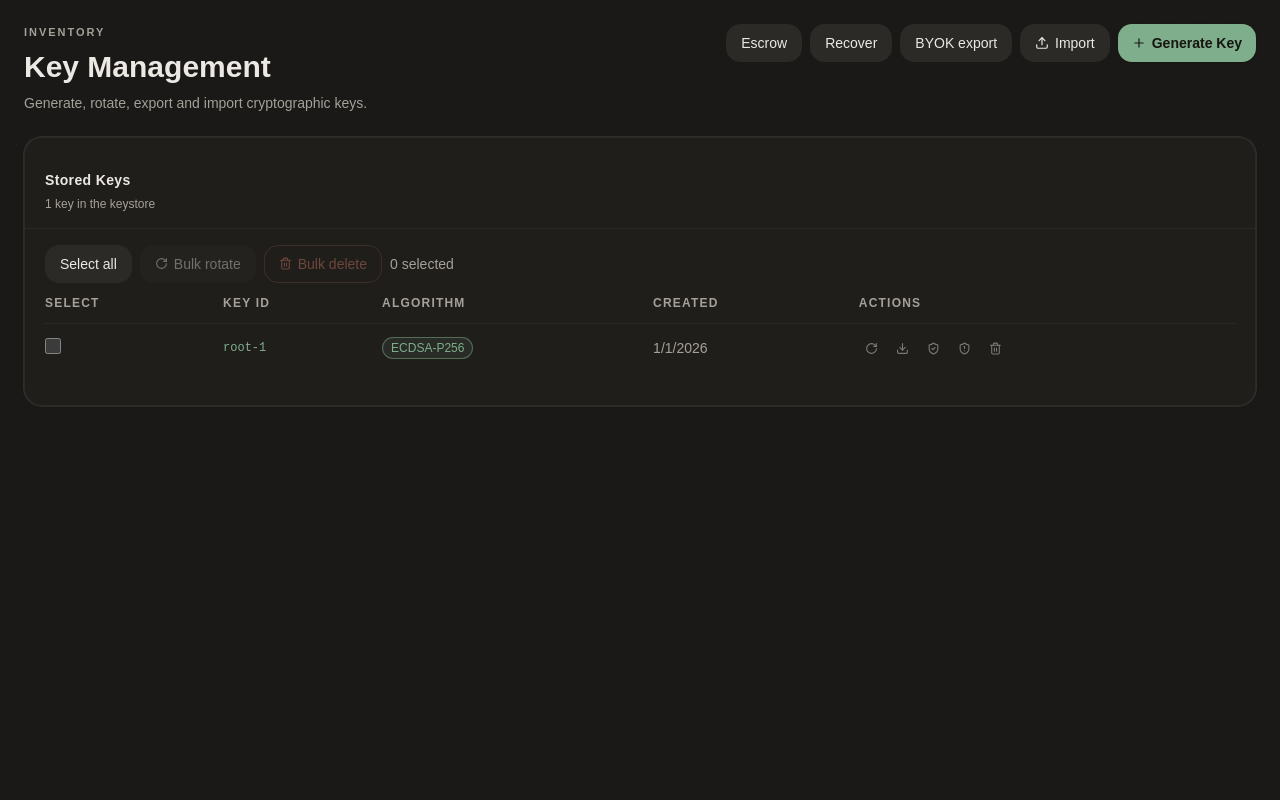
Keys escrow / recover / BYOK (W23-21) › starts escrow and shows 202 pending with the action id
Click the button "Escrow": (764,43) left=726, top=24, right=802, bottom=62
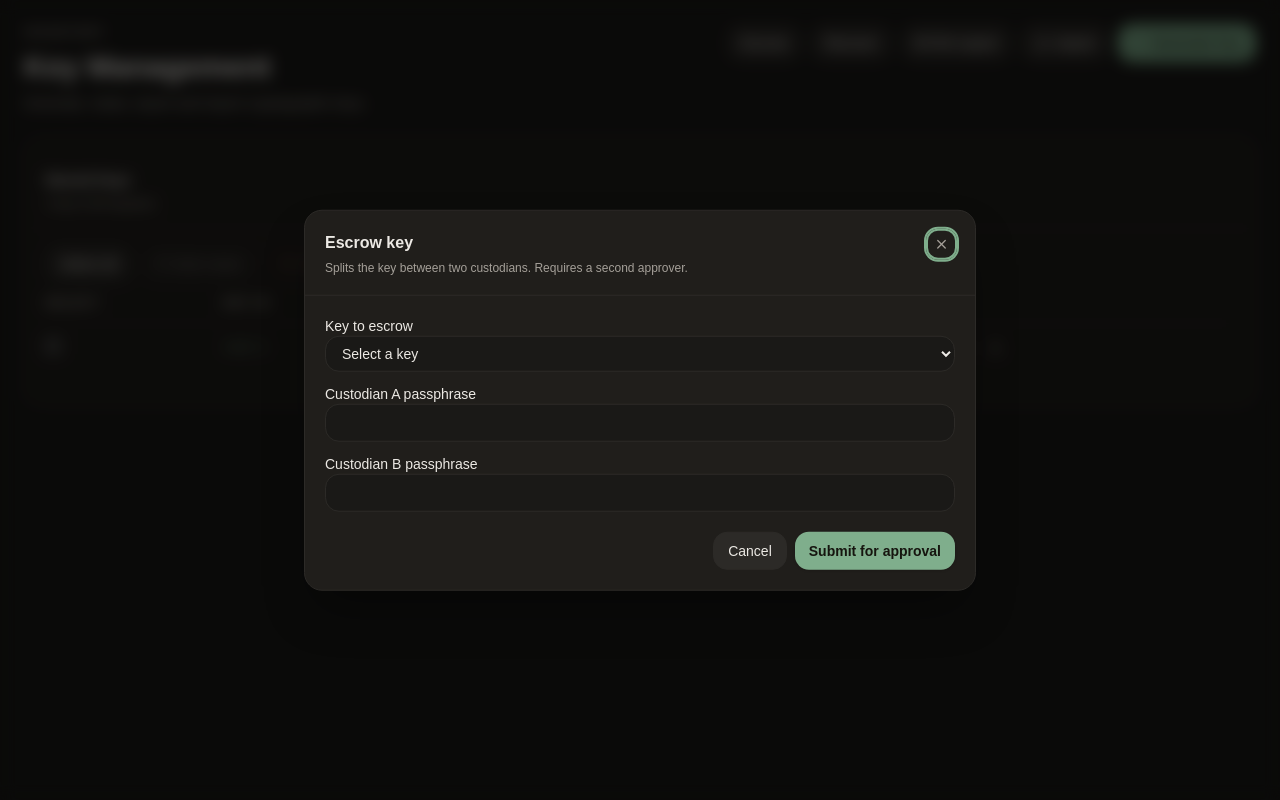
Select "root-1" in the dropdown labelled "Key to escrow": (640,353) left=325, top=335, right=955, bottom=371
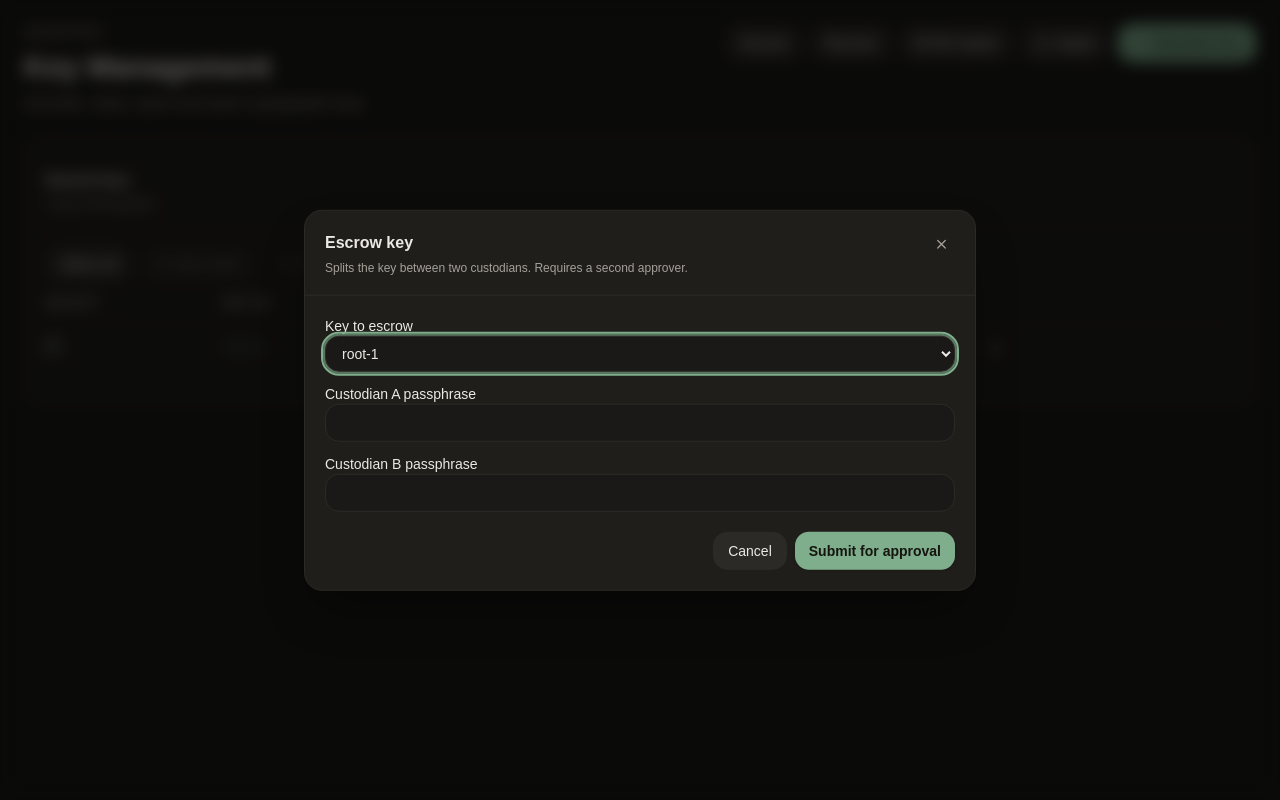
In the password field labelled "Custodian A passphrase": (640,422) left=325, top=403, right=955, bottom=441, type "alpha-secret"
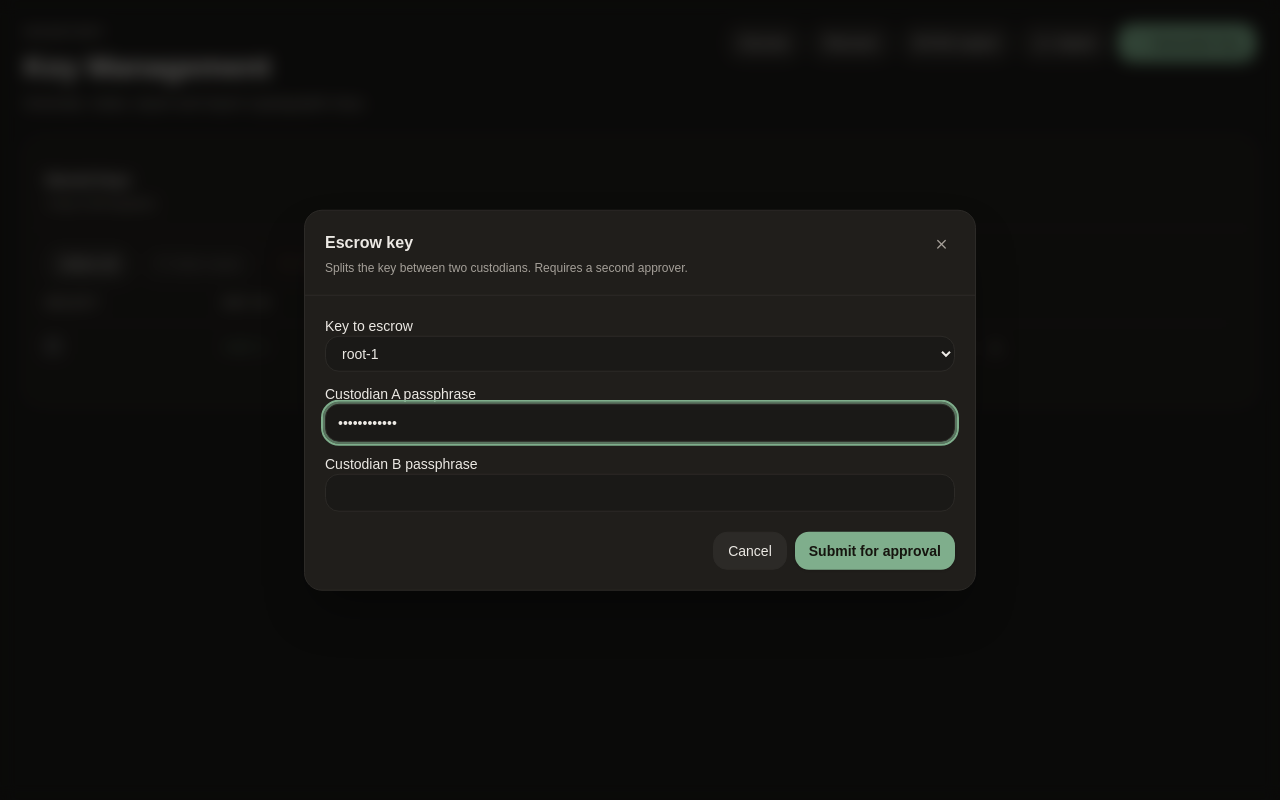
In the password field labelled "Custodian B passphrase": (640,492) left=325, top=473, right=955, bottom=511, type "bravo-secret"
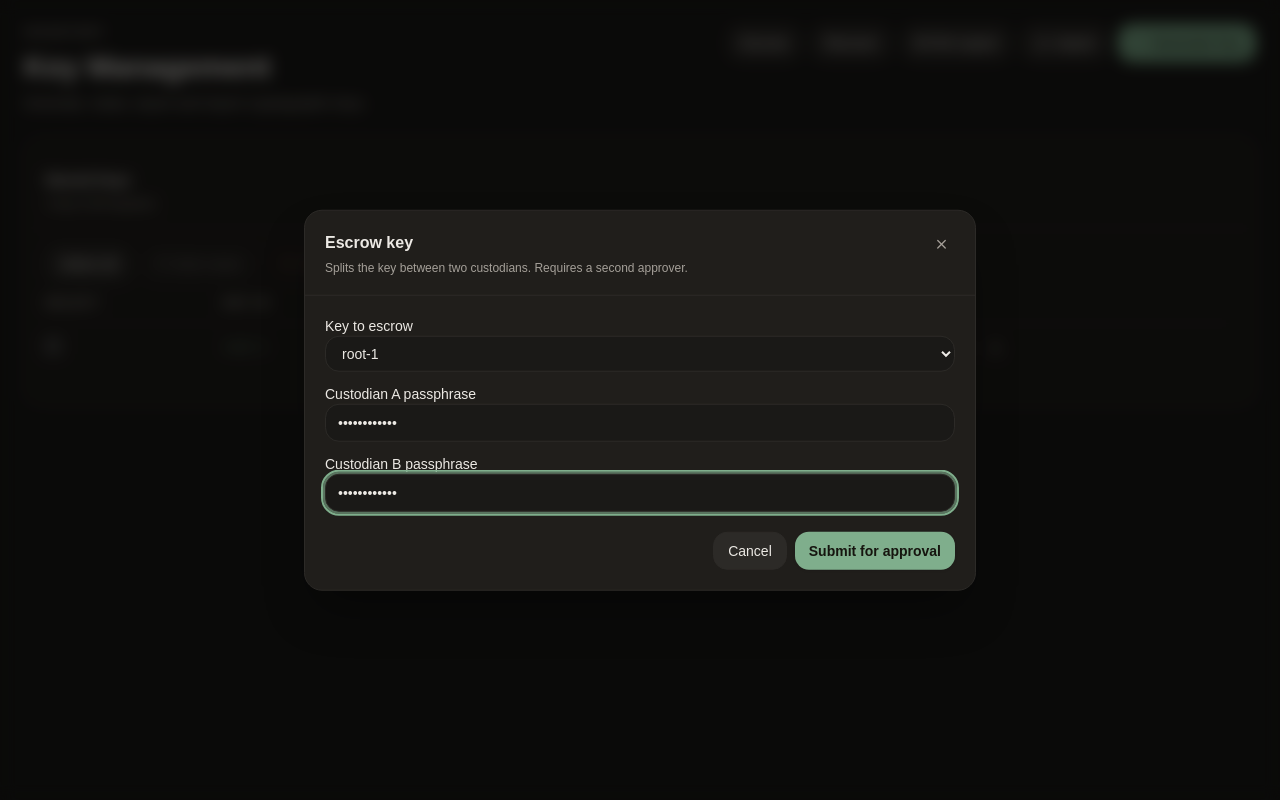
Click the button "Submit for approval": (875,550) left=795, top=531, right=955, bottom=569
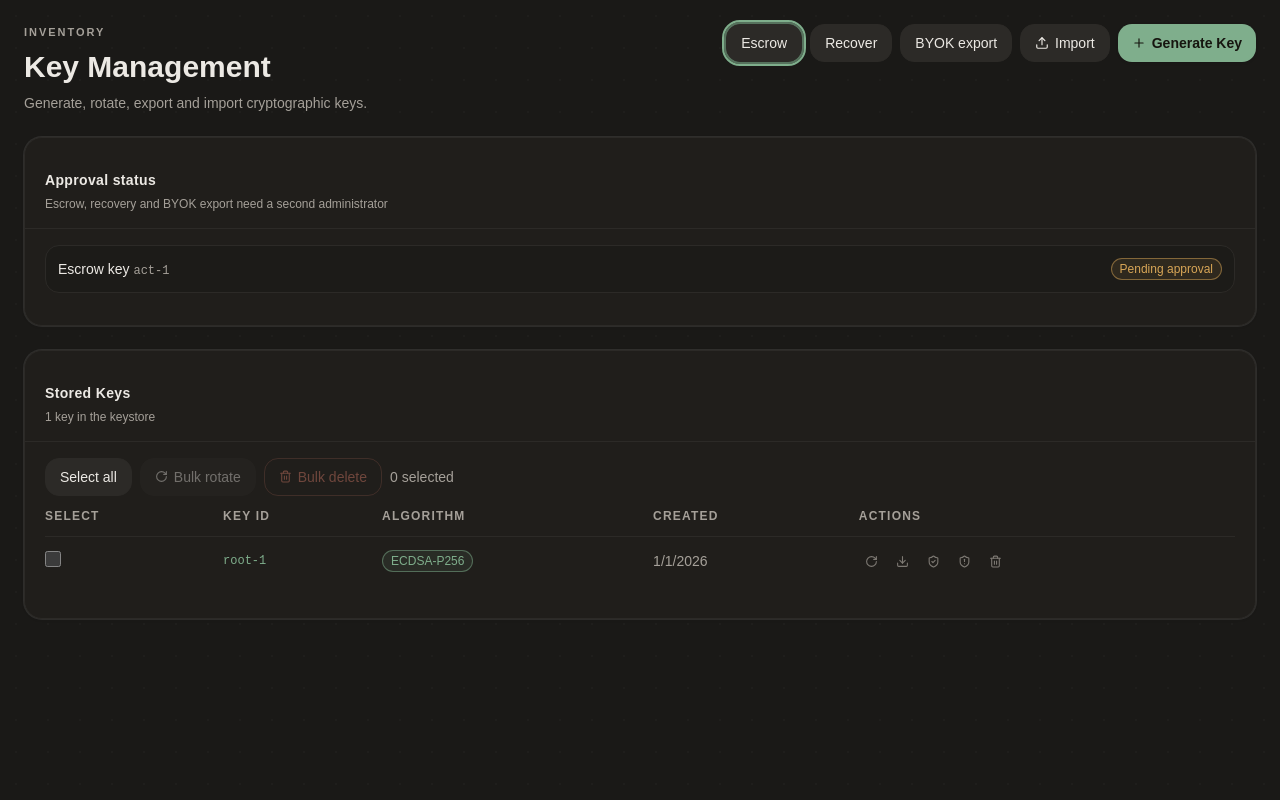
Now the text "act-1" is shown, box left=134, top=264, right=170, bottom=278
Now the text "Pending approval" is shown, box left=1111, top=258, right=1222, bottom=280
